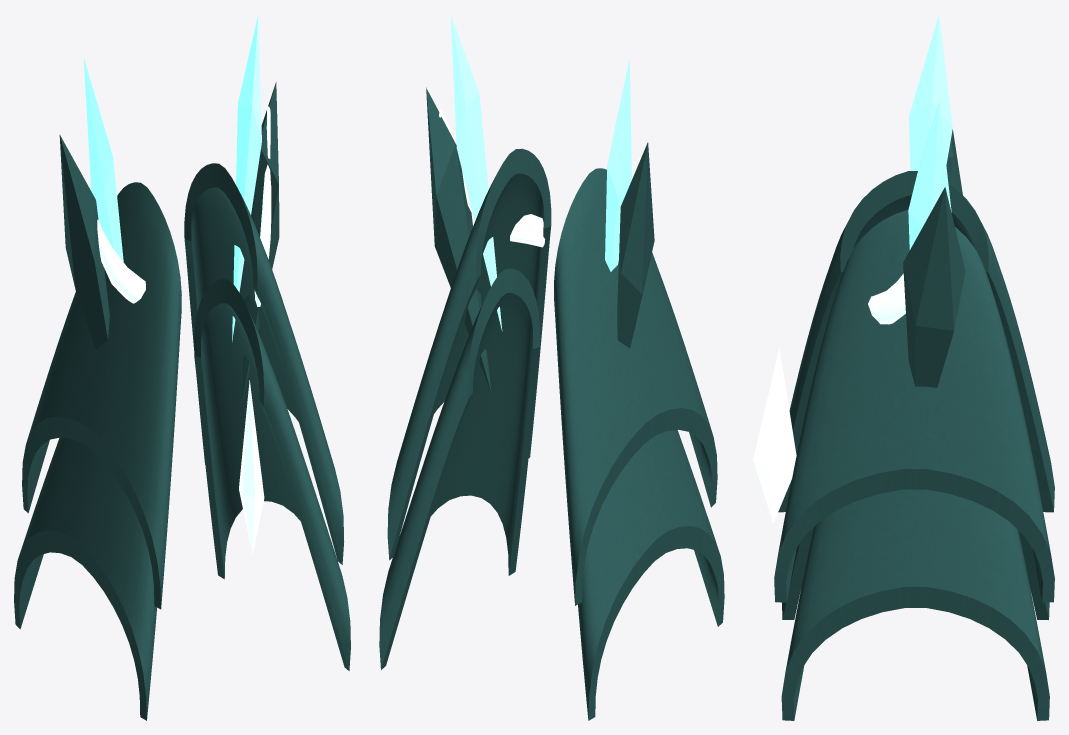
The model's file is soul_spirit_mantle.glb.
The picture shows the model from 3 angles, left to right: view 1: azimuth 30°, elevation 25°; view 2: azimuth 150°, elevation 25°; view 3: azimuth 270°, elevation 25°; orthographic projection. The views are drawn at different scales.
Parts seen in each view (by area): view 1: soul_spirit_mantle spectral patinated armor, soul_spirit_mantle bound soul jade, soul_spirit_mantle spectral core glow; view 2: soul_spirit_mantle spectral patinated armor, soul_spirit_mantle bound soul jade, soul_spirit_mantle spectral core glow; view 3: soul_spirit_mantle spectral patinated armor, soul_spirit_mantle bound soul jade, soul_spirit_mantle spectral core glow.
Part boxes in pixels (bbox=[...]): soul_spirit_mantle spectral patinated armor: bbox=[14, 82, 350, 720]; soul_spirit_mantle bound soul jade: bbox=[83, 15, 261, 341]; soul_spirit_mantle spectral core glow: bbox=[72, 106, 271, 554]; soul_spirit_mantle spectral patinated armor: bbox=[379, 87, 724, 720]; soul_spirit_mantle bound soul jade: bbox=[450, 14, 631, 331]; soul_spirit_mantle spectral core glow: bbox=[439, 108, 641, 247]; soul_spirit_mantle spectral patinated armor: bbox=[774, 129, 1054, 720]; soul_spirit_mantle bound soul jade: bbox=[908, 14, 952, 249]; soul_spirit_mantle spectral core glow: bbox=[753, 273, 905, 523].
Size of the model in its own units: 1.22 by 3.24 by 1.45.
Materials: 3 (1 with a texture image).
